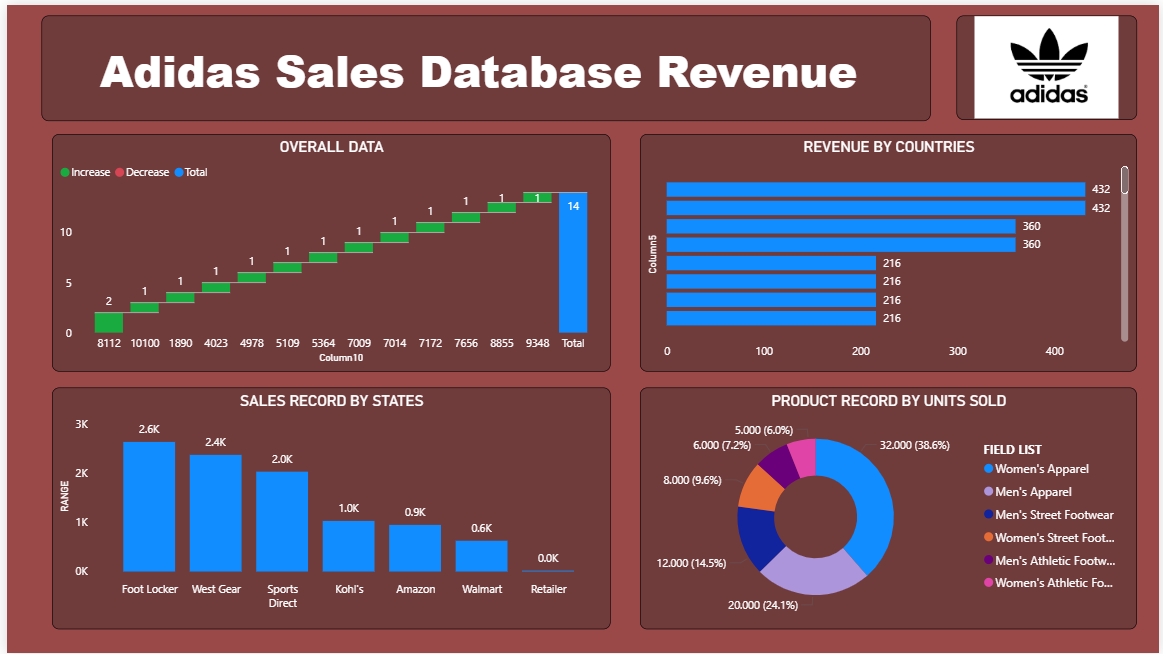

This screenshot's page, from the dashboard's own definition file:
{"tool":"powerbi","page":{"name":"Page 1","canvas":[1280,720],"ordinal":0},"visuals":[{"type":"textbox","box":[37.9,12.1,987.9,117.2],"z":0},{"type":"clusteredColumnChart","title":"SALES RECORD BY STATES","fields":{"Category":["Data Sales Adidas.Column1"],"Y":["CountNonNull(Data Sales Adidas.Column2)"]},"box":[49.3,424.7,620.3,268.8],"z":1000},{"type":"pieChart","title":"PRODUCT RECORD BY UNITS SOLD","fields":{"Series":["Data Sales Adidas.Column8"],"Y":["CountNonNull(Data Sales Adidas.Column8)"],"Category":["Data Sales Adidas.Column7"]},"box":[703.1,424.7,551.9,268.8],"z":2000},{"type":"waterfallChart","title":"OVERALL DATA","fields":{"Y":["CountNonNull(Data Sales Adidas.Column6)"],"Category":["Data Sales Adidas.Column10"]},"box":[49.3,143.2,620.3,264],"z":3000},{"type":"clusteredBarChart","title":"REVENUE BY COUNTRIES","fields":{"Category":["Data Sales Adidas.Column5"],"Y":["CountNonNull(Data Sales Adidas.Column7)"]},"box":[703.1,143.2,551.9,264],"z":4000},{"type":"image","box":[1054.6,11.1,200.4,116.1],"z":5000}]}

Visuals, with their boxes in screenshot pixels (x1, y1, x2, y2), scaled from the page's 1280x720 canvas onto the 1163x654 screenshot:
textbox: left=34, top=11, right=932, bottom=117
"SALES RECORD BY STATES" clusteredColumnChart: left=45, top=386, right=608, bottom=630
"PRODUCT RECORD BY UNITS SOLD" pieChart: left=639, top=386, right=1140, bottom=630
"OVERALL DATA" waterfallChart: left=45, top=130, right=608, bottom=370
"REVENUE BY COUNTRIES" clusteredBarChart: left=639, top=130, right=1140, bottom=370
image: left=958, top=10, right=1140, bottom=116
